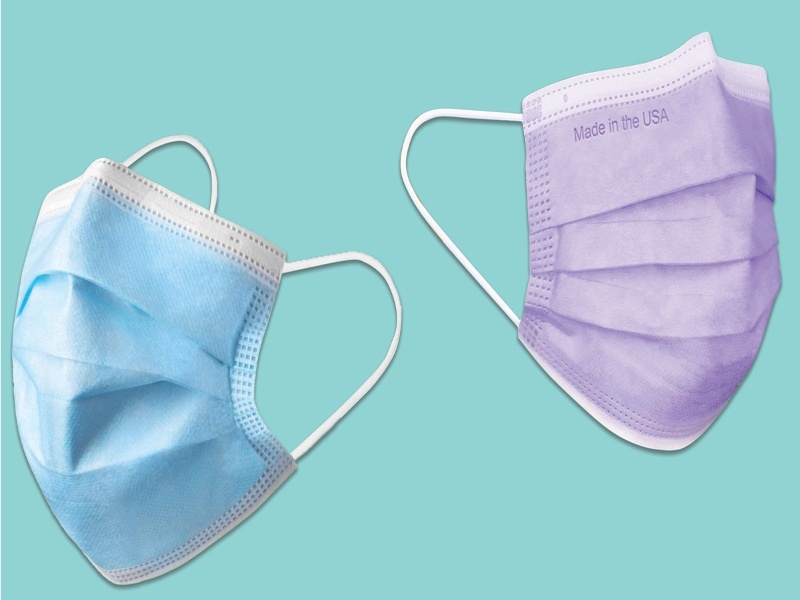mask: (7, 158, 298, 589), (515, 28, 784, 454)
